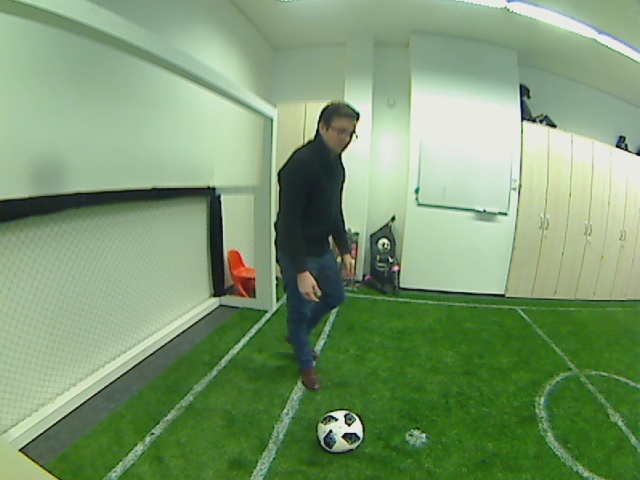ball: (314, 407, 364, 455)
